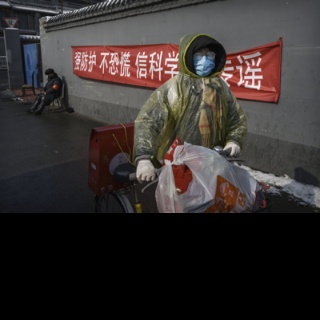with_mask: (192, 48, 216, 77)
